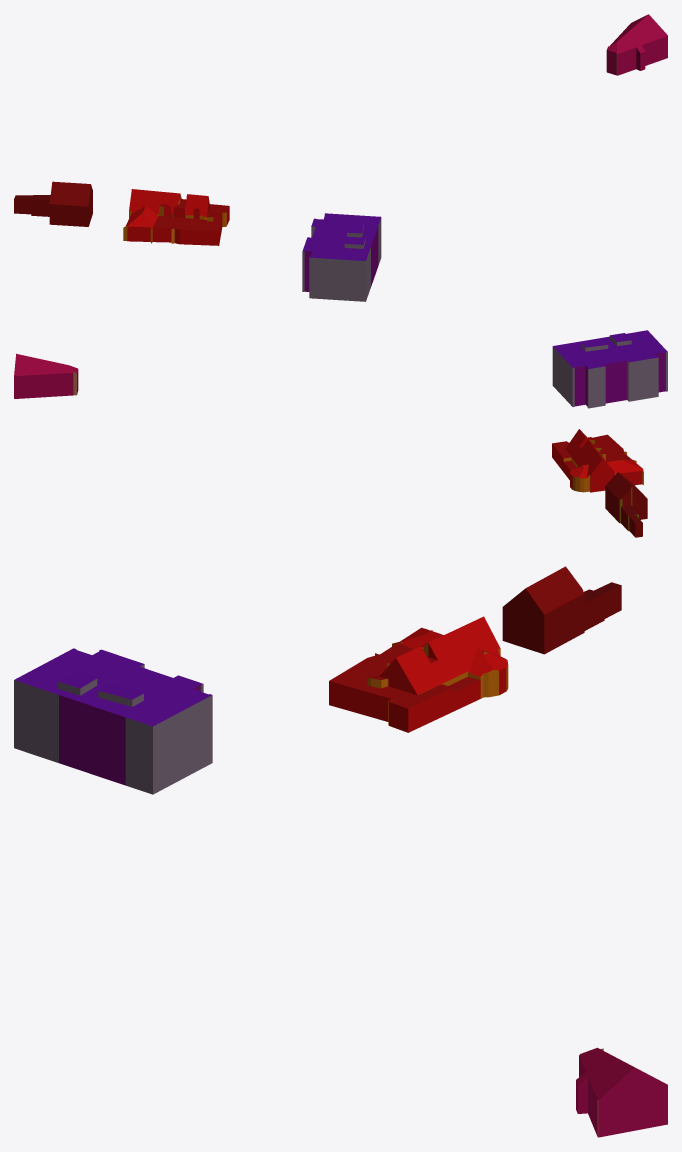
Rendered from buildings_4_13.glb.
The picture shows the model from 3 angles, top to bottom: view 1: azimuth 30°, elevation 25°; view 2: azimuth 150°, elevation 25°; view 3: azimuth 270°, elevation 25°; orthographic projection. The views are drawn at different scales.
Visible parts, largest first — view 1: buildings_4_13; view 2: buildings_4_13; view 3: buildings_4_13.
Boxes of the visible parts, bbox=[...] form: buildings_4_13: bbox=[14, 14, 667, 301]; buildings_4_13: bbox=[14, 330, 667, 537]; buildings_4_13: bbox=[14, 566, 667, 1137].
Size of the model in its own units: 176 by 11.66 by 91.37.
